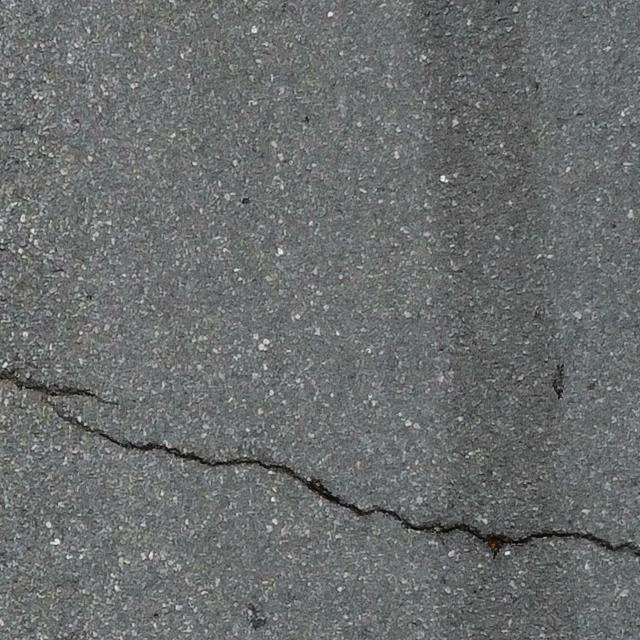TransverseCrack: (1, 371, 640, 555)
